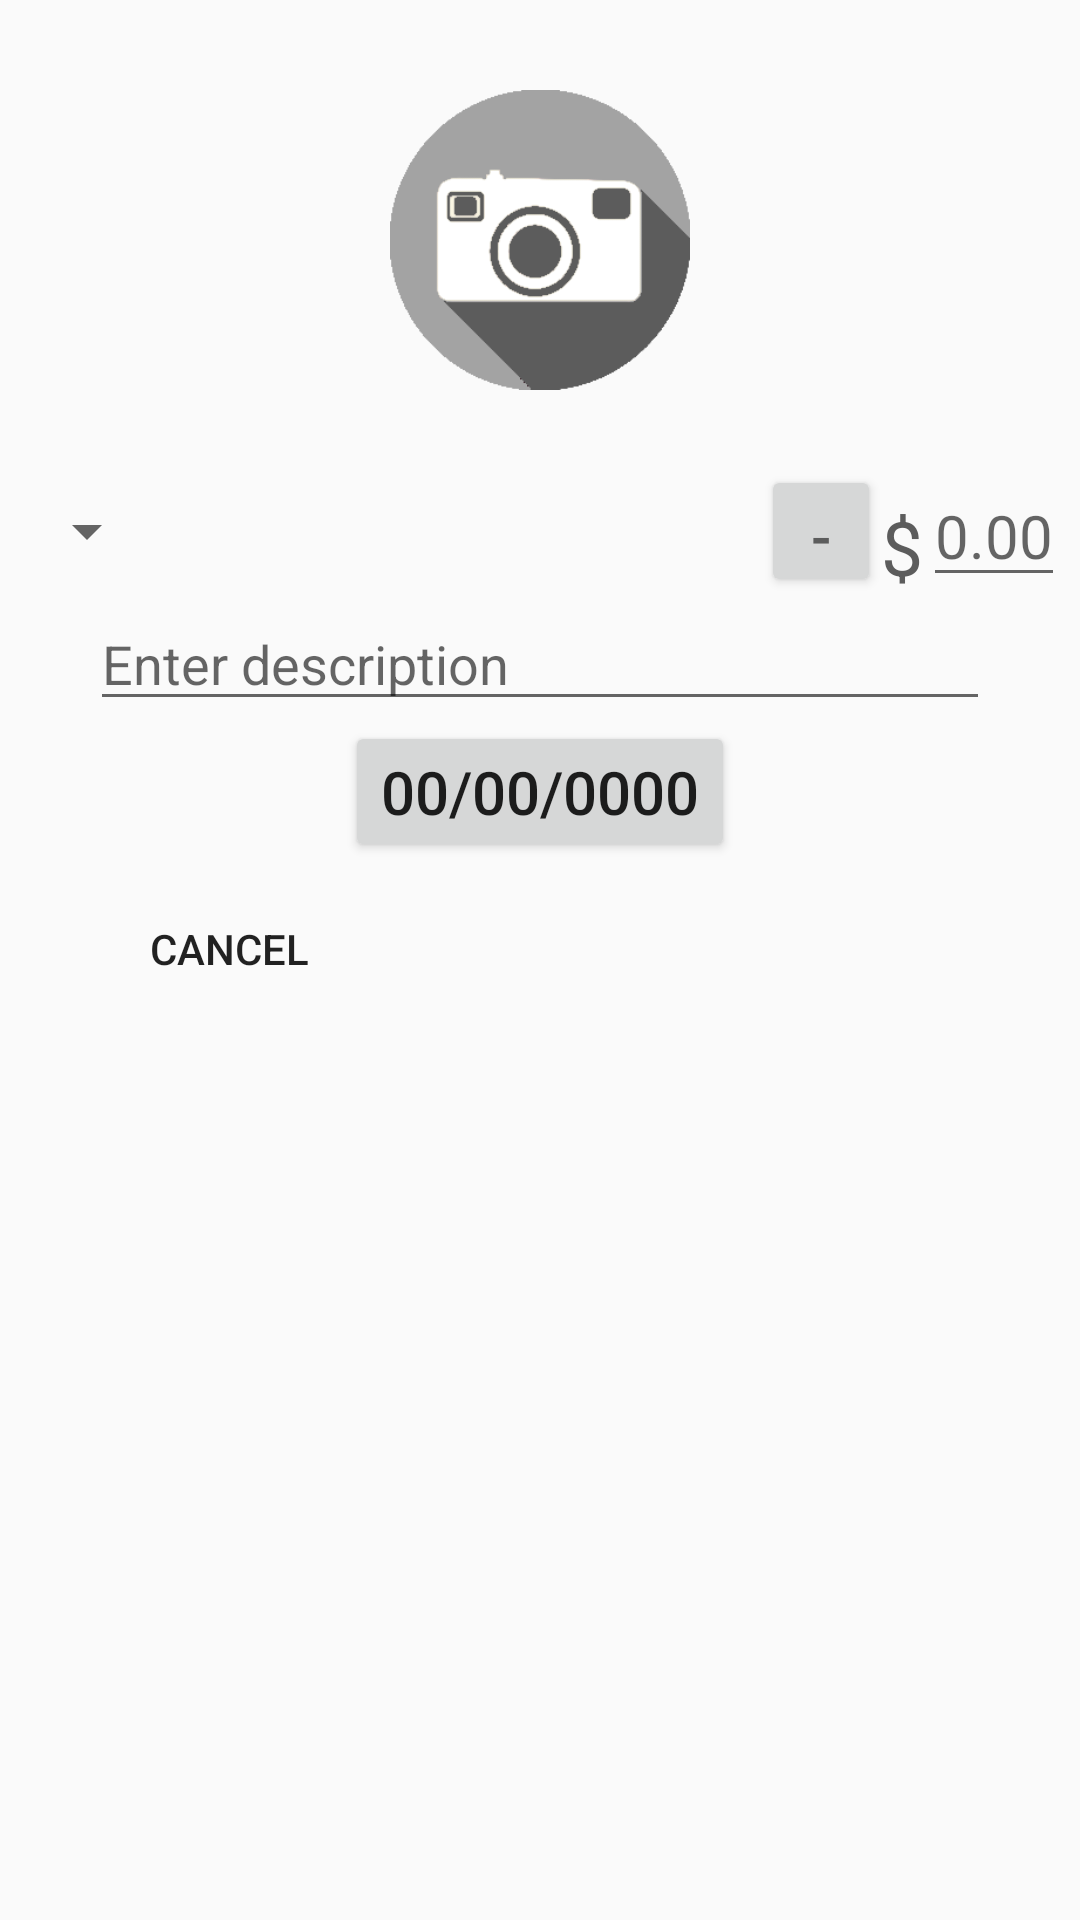

Icon click points for this 1080 × 1920 phone screenshot, format point (x, y):
camera: point (540, 240)
